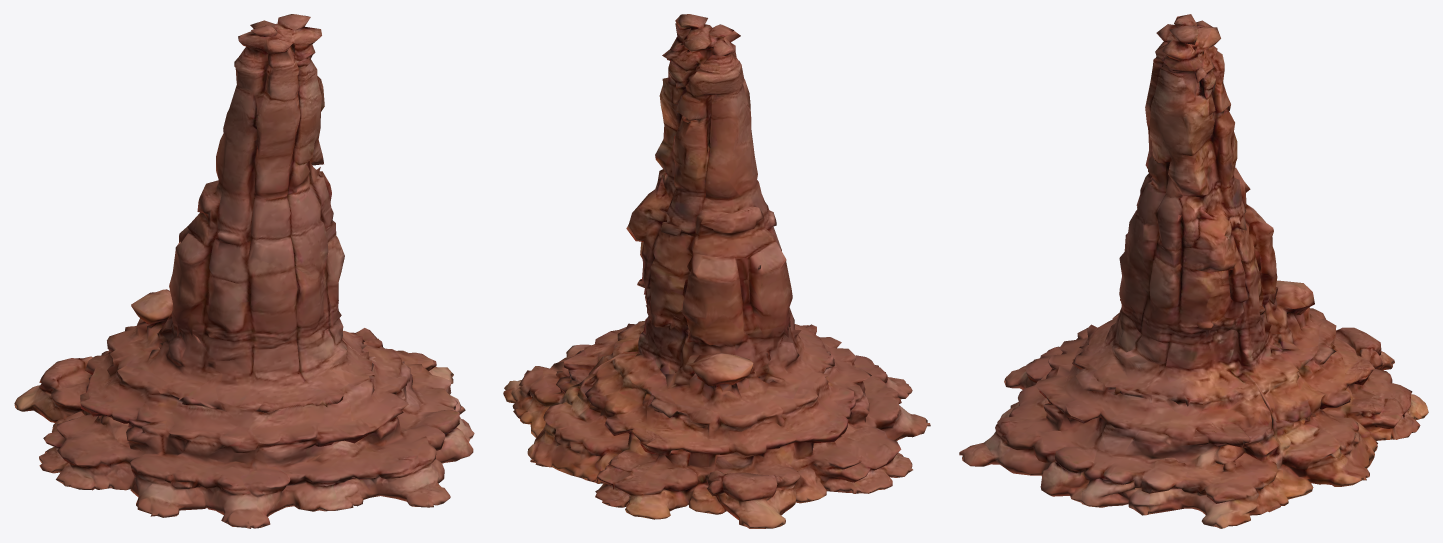
Rendered from spire.glb.
3 views of the same model, side by side, from view 1: azimuth 30°, elevation 25°; view 2: azimuth 150°, elevation 25°; view 3: azimuth 270°, elevation 25° (orthographic). The views are drawn at different scales.
Visible parts, largest first — view 1: tripo_node_36cee505-d1b3-4487-994f-1b46a49eff36; view 2: tripo_node_36cee505-d1b3-4487-994f-1b46a49eff36; view 3: tripo_node_36cee505-d1b3-4487-994f-1b46a49eff36.
Part boxes in pixels (x1=…): tripo_node_36cee505-d1b3-4487-994f-1b46a49eff36: x1=14, y1=14, x2=474, y2=528; tripo_node_36cee505-d1b3-4487-994f-1b46a49eff36: x1=503, y1=14, x2=930, y2=528; tripo_node_36cee505-d1b3-4487-994f-1b46a49eff36: x1=959, y1=14, x2=1428, y2=528.
Size of the model in its own units: 1 by 0.9758 by 0.9998.
Materials: 1 (1 with a texture image).
